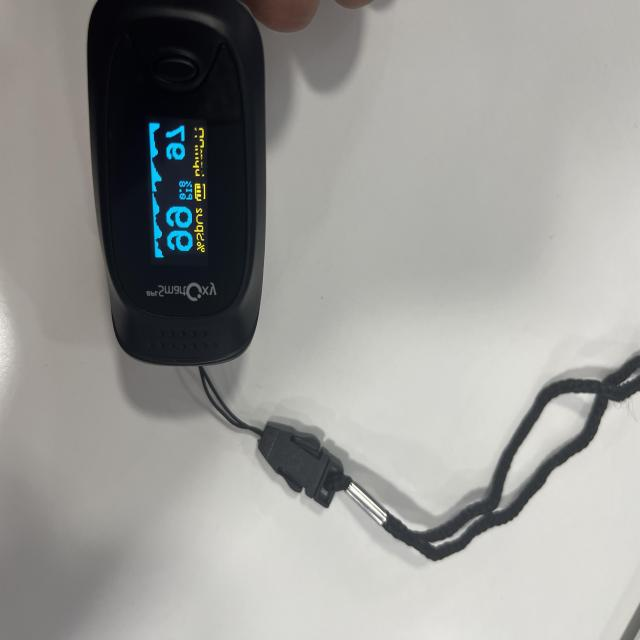spo2: (85, 0, 267, 369)
